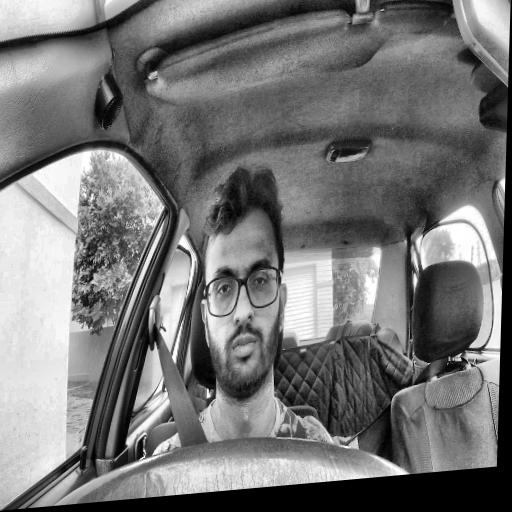awake: (196, 161, 292, 399)
